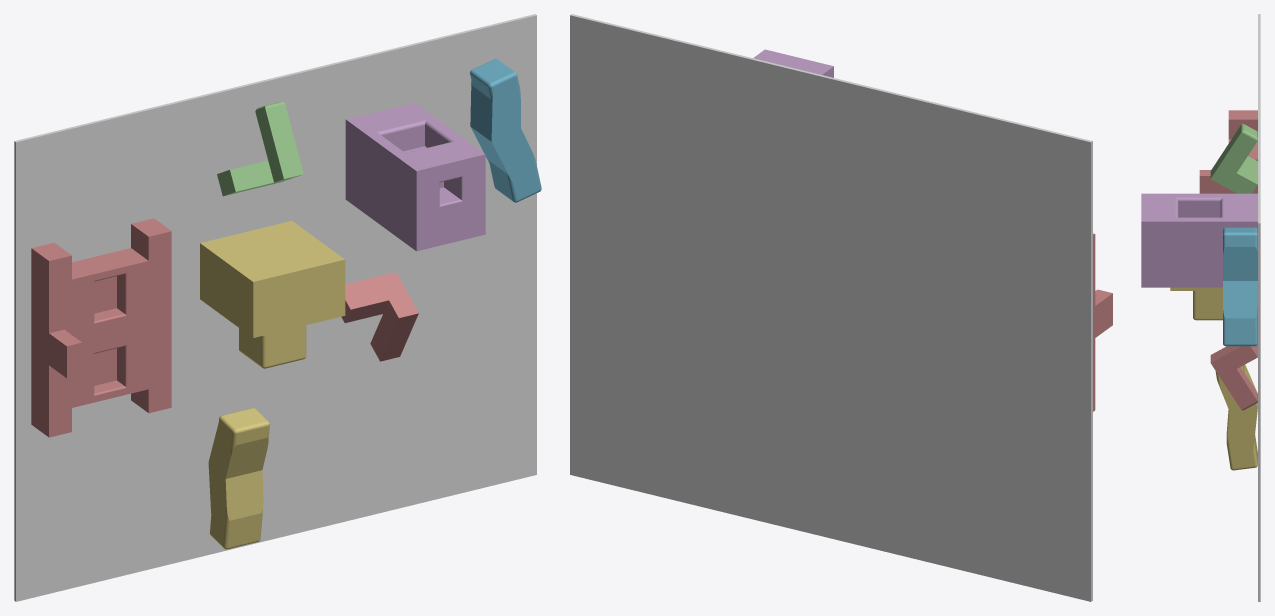
The model's file is pickup_layout.glb.
The picture shows the model from 3 angles, left to right: view 1: azimuth 30°, elevation 25°; view 2: azimuth 150°, elevation 25°; view 3: azimuth 270°, elevation 25°; orthographic projection. The views are drawn at different scales.
Parts seen in each view (by area): view 1: world, 0.obj, 3.obj, 6.obj, 1.obj, 2.obj, 5.obj, 4.obj; view 2: world, 0.obj, 3.obj; view 3: 3.obj, 2.obj, 4.obj, 1.obj, 5.obj, world, 0.obj, 6.obj.
Boxes of the visible parts, x1,y1,x2,y2 form: world: (14,14,536,601); 0.obj: (31,218,171,437); 3.obj: (345,102,485,251); 6.obj: (200,221,345,368); 1.obj: (208,408,269,549); 2.obj: (470,59,541,202); 5.obj: (341,272,418,361); 4.obj: (217,102,303,196); world: (570,14,1092,601); 0.obj: (1093,233,1112,411); 3.obj: (753,49,833,77); 3.obj: (1141,193,1257,287); 2.obj: (1223,227,1257,346); 4.obj: (1210,123,1257,193); 1.obj: (1215,364,1257,470); 5.obj: (1210,344,1257,410); world: (1258,14,1260,601); 0.obj: (1199,110,1257,193); 6.obj: (1170,287,1222,320).
Size of the model in its own units: 33.98 by 28.64 by 8.2.
